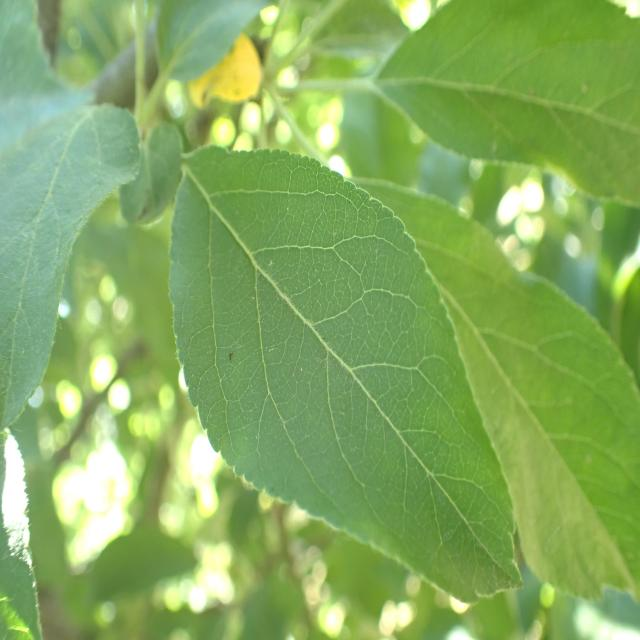healthy: (170, 143, 524, 604), (351, 174, 640, 604), (0, 0, 142, 429), (371, 0, 639, 208)
